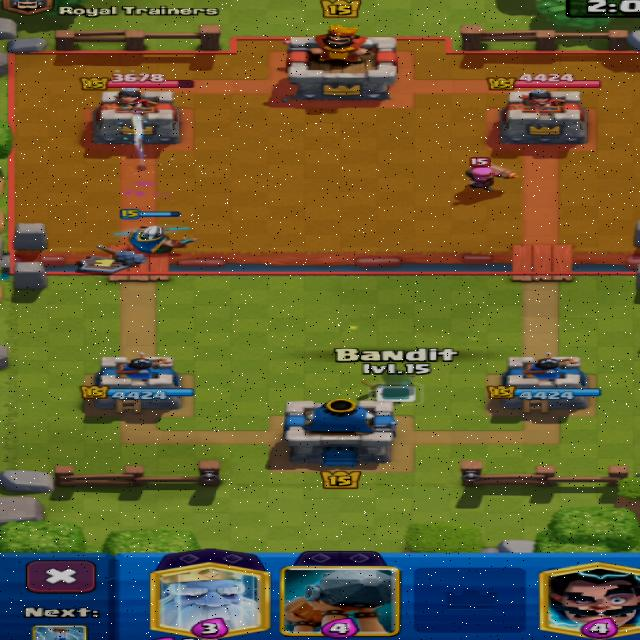Enemy-Firecracker: (464, 165, 520, 192)
Enemy-KingTower: (287, 26, 397, 101)
Enemy-PrincessTower: (91, 88, 183, 145), (499, 90, 587, 145)
Player-KingTower: (283, 399, 397, 467)
Player-MagicArcher: (115, 225, 194, 254)
Player-PrincessTower: (81, 353, 194, 414), (488, 354, 588, 414)
